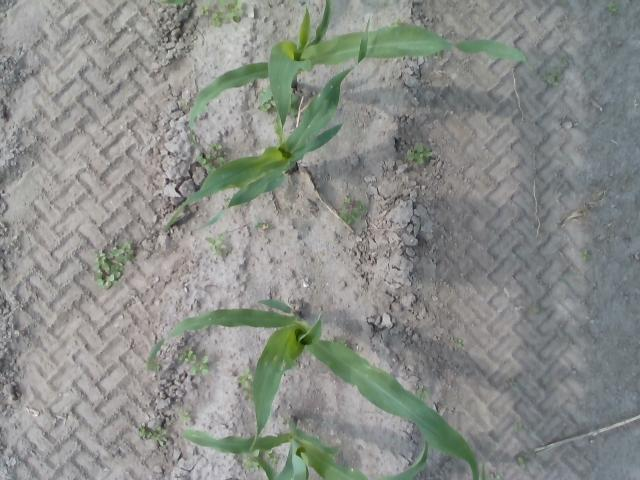Maize: (146, 298, 480, 480), (190, 0, 531, 148), (164, 15, 368, 232), (180, 415, 430, 480)
Weeds: (95, 242, 134, 287), (409, 145, 434, 165), (219, 1, 242, 21), (342, 206, 361, 226), (190, 355, 209, 374), (208, 237, 226, 256), (142, 425, 168, 438), (237, 366, 252, 386), (544, 69, 563, 83), (258, 93, 272, 112), (244, 460, 258, 470), (607, 1, 617, 15), (181, 351, 195, 361), (270, 450, 280, 462), (210, 15, 222, 25), (518, 454, 527, 464), (505, 378, 516, 386), (393, 18, 404, 26), (582, 250, 590, 260), (454, 338, 462, 348), (514, 422, 522, 432), (563, 56, 571, 66), (200, 8, 210, 16), (418, 388, 427, 396)
